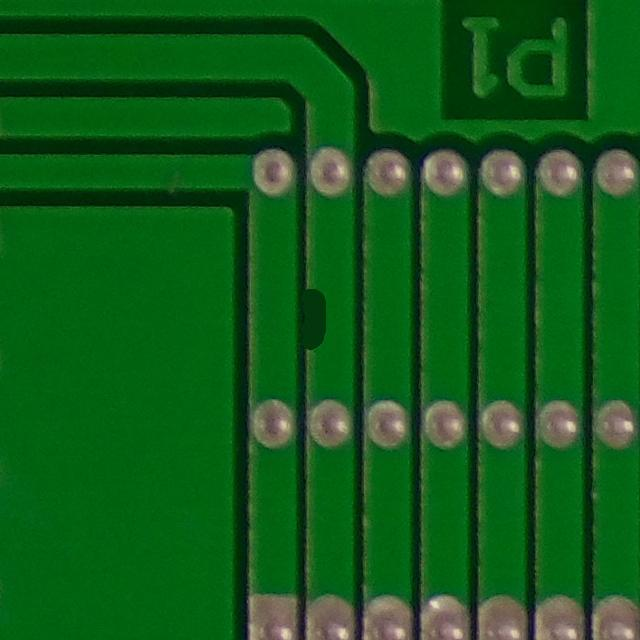mouse_bite: (290, 279, 351, 361)
